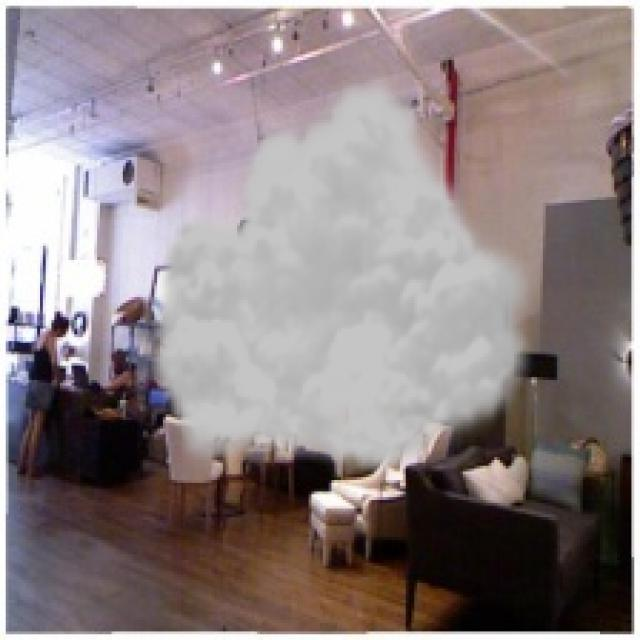Smoke: (143, 69, 543, 478)
